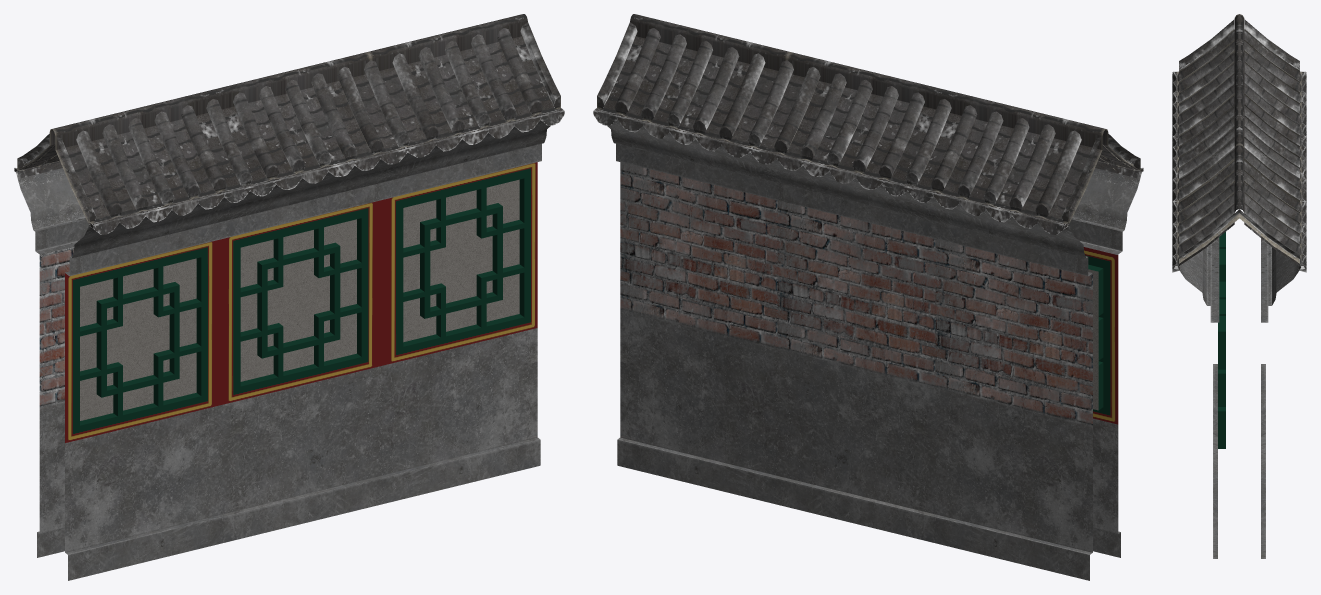
Rendered from hutong_wall_fancy_a.fbx.
The picture shows the model from 3 angles, left to right: view 1: azimuth 30°, elevation 25°; view 2: azimuth 150°, elevation 25°; view 3: azimuth 270°, elevation 25°; orthographic projection. The views are drawn at different scales.
Parts seen in each view (by area): view 1: hutong_wall_fancy_a; view 2: hutong_wall_fancy_a; view 3: hutong_wall_fancy_a.
Boxes of the visible parts, x1,y1,x2,y2 form: hutong_wall_fancy_a: (14,14,564,580); hutong_wall_fancy_a: (593,14,1143,580); hutong_wall_fancy_a: (1172,14,1306,558).
Size of the model in its own units: 380 by 338 by 111.
Materials: 3 (3 with a texture image).
